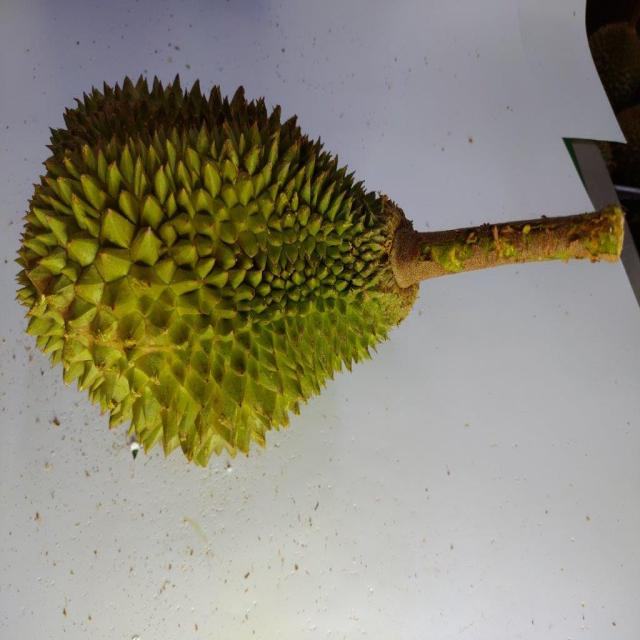immature: (21, 73, 421, 468)
